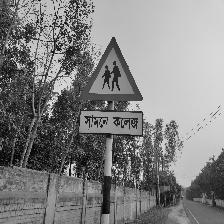College-in-front: (79, 22, 157, 149)
